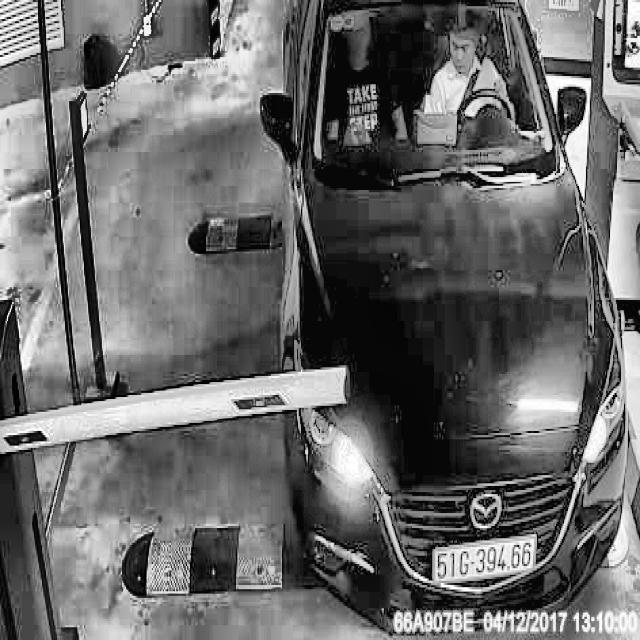plate: (431, 526, 542, 595)
